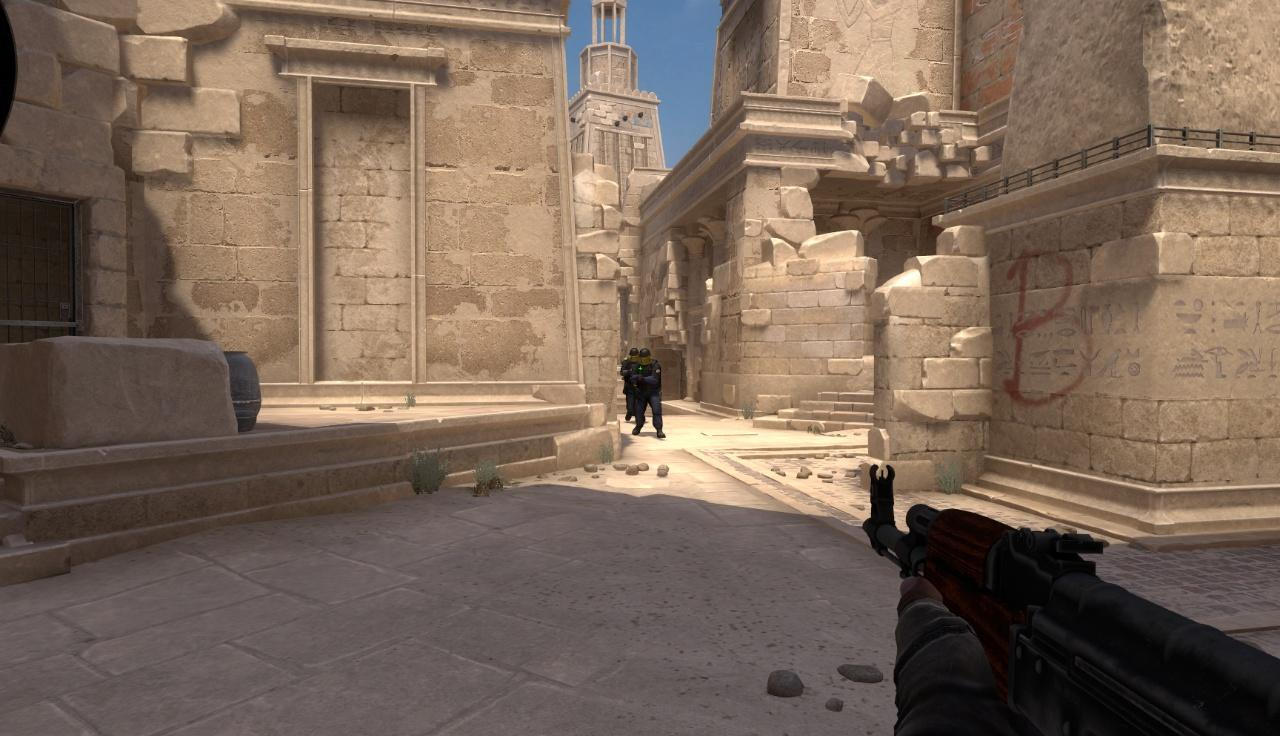ct: (633, 349, 661, 433), (622, 359, 633, 422)
cthead: (639, 348, 650, 365)
rifle: (863, 467, 1280, 736)
